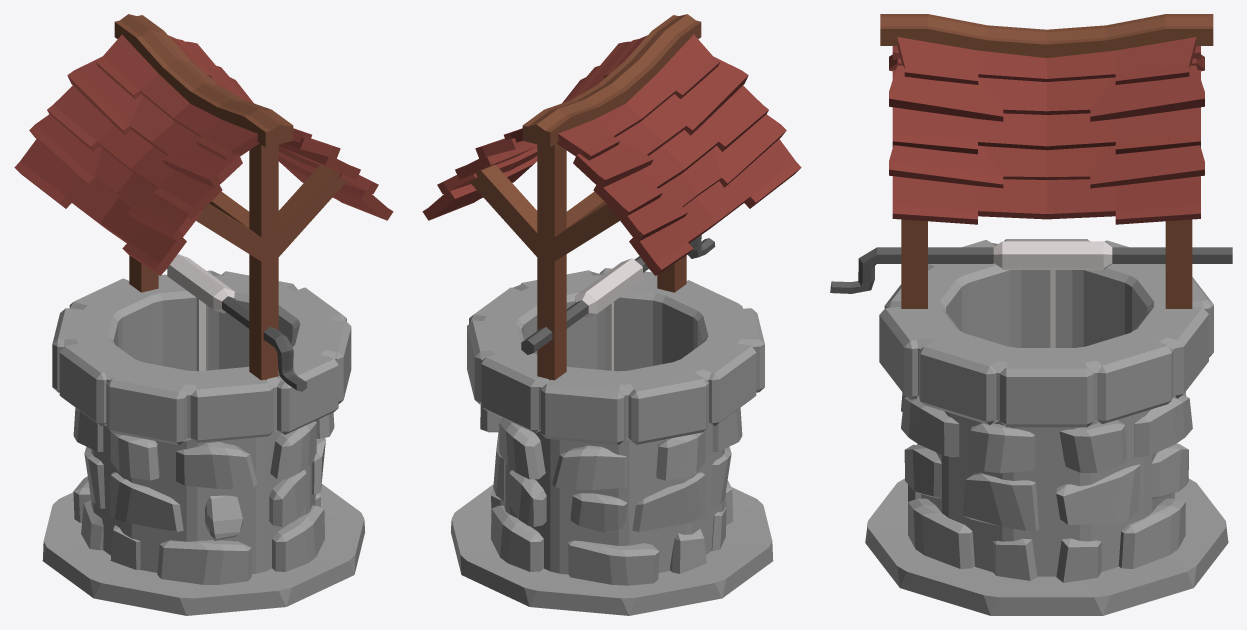
The model's file is Well.glb.
3 views of the same model, side by side, from view 1: azimuth 30°, elevation 25°; view 2: azimuth 150°, elevation 25°; view 3: azimuth 270°, elevation 25° (orthographic). The views are drawn at different scales.
Visible parts, largest first — view 1: Grey, LightRed, Brown, White, DarkGrey; view 2: Grey, LightRed, Brown, White, DarkGrey; view 3: Grey, LightRed, Brown, DarkGrey, White.
Boxes of the visible parts, x1,y1,x2,y2 form: Grey: [42, 270, 364, 615]; LightRed: [14, 34, 393, 275]; Brown: [114, 14, 346, 380]; White: [167, 254, 234, 371]; DarkGrey: [167, 268, 307, 391]; Grey: [451, 268, 773, 615]; LightRed: [422, 34, 801, 275]; Brown: [469, 14, 701, 380]; White: [575, 258, 642, 370]; DarkGrey: [521, 235, 715, 354]; Grey: [865, 239, 1228, 615]; LightRed: [889, 36, 1204, 224]; Brown: [880, 14, 1213, 308]; DarkGrey: [830, 247, 1232, 293]; White: [993, 241, 1112, 347].
Bounding box in the file's own units: 1.28 × 2.15 × 1.49.
